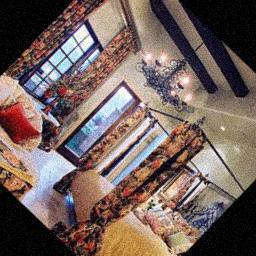Puerta: (59, 85, 141, 169)
